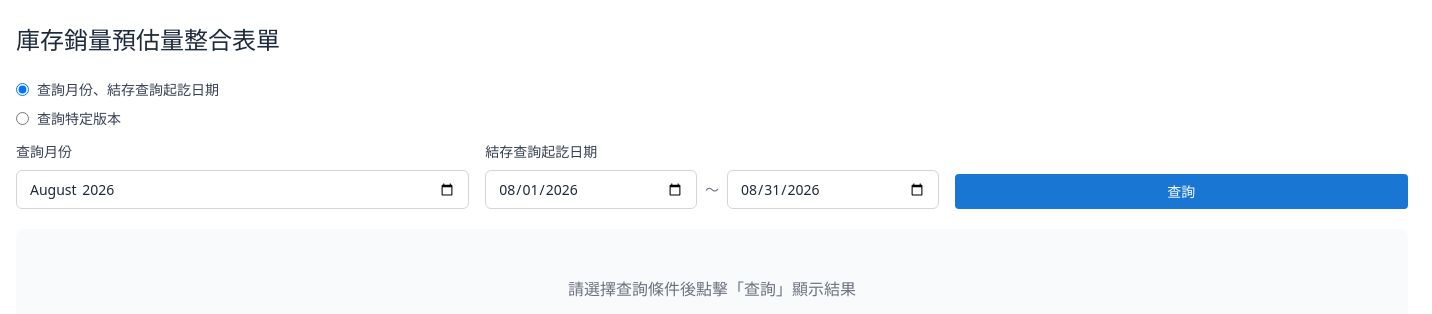
Test case: InventoryIntegrationPage › should handle API errors gracefully
The image size is (1432, 314).
Click the button "查詢". click: (1181, 191)
box: [955,174,1408,209]
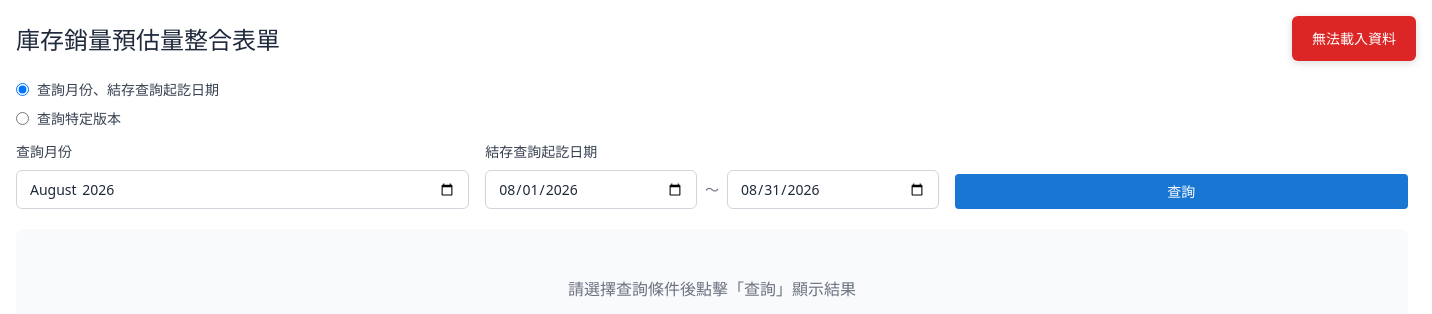
Expected: the text "無法載入資料" is shown, [1292,16,1416,61]
